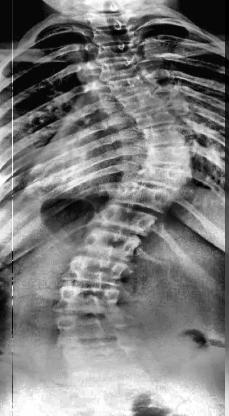Vertebrae: (63, 334, 145, 368), (92, 202, 158, 238), (57, 282, 123, 318), (67, 252, 128, 290), (58, 310, 130, 342), (78, 226, 142, 260), (112, 181, 174, 213), (136, 122, 190, 150), (134, 164, 190, 190), (141, 145, 193, 171), (126, 105, 182, 129), (116, 88, 166, 112), (103, 74, 155, 96), (93, 42, 141, 64), (95, 59, 143, 79), (88, 26, 138, 44), (87, 10, 136, 28)
